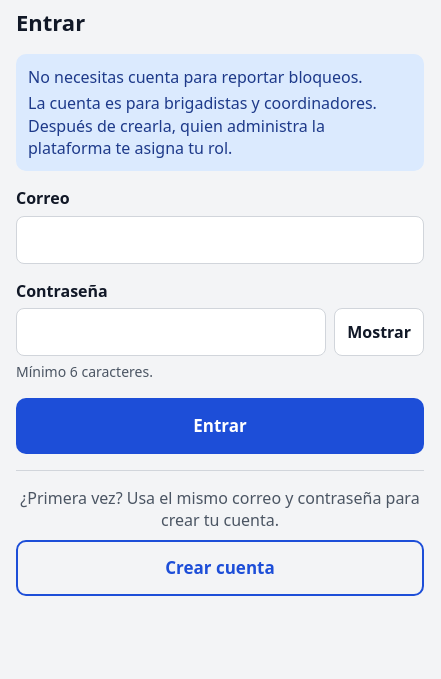
IniciarSesion › crear cuenta sin correo lo pide
The width and height of the screenshot is (441, 679).
Click the button "Crear cuenta" at [220, 568], box [16,540,424,596]
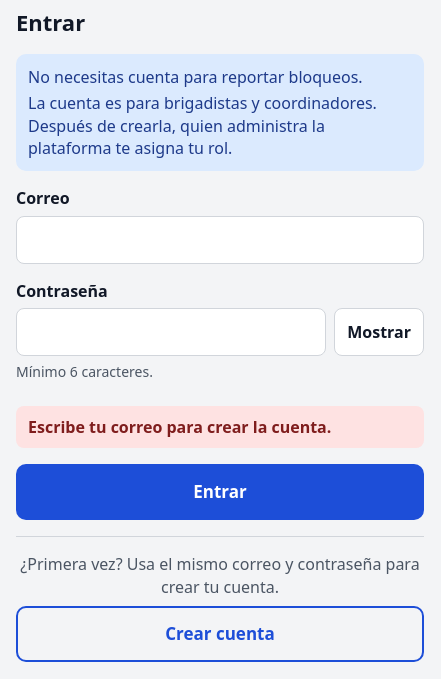
Check: the message reads "Escribe tu correo para crear la cuenta.", box [28,416,331,438]
